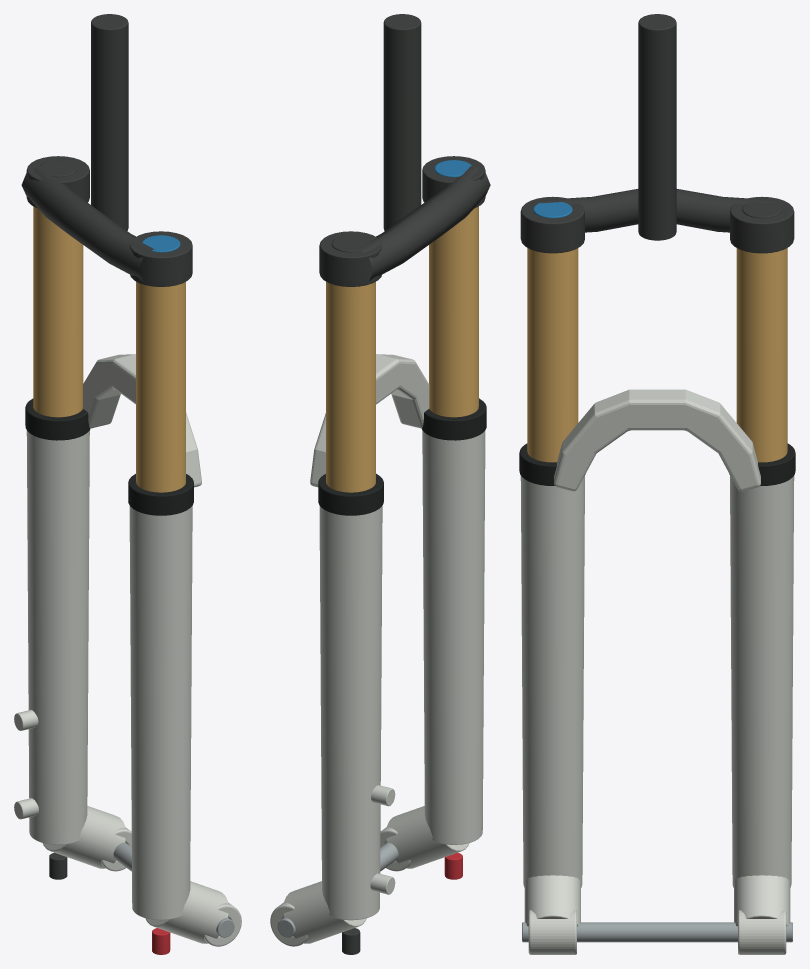
The model's file is fox-38-factory-my27--47e9709b.glb.
3 renders of one model, left to right at view 1: azimuth 30°, elevation 25°; view 2: azimuth 150°, elevation 25°; view 3: azimuth 270°, elevation 25°, orthographic.
Visible parts, largest first — view 1: fox-38-factory-my27--47e9709b__frame, fox-38-factory-my27--47e9709b__stanchions, fox-38-factory-my27--47e9709b__link, fox-38-factory-my27--47e9709b__protection, fox-38-factory-my27--47e9709b__bolts, fox-38-factory-my27--47e9709b__adjuster; view 2: fox-38-factory-my27--47e9709b__frame, fox-38-factory-my27--47e9709b__stanchions, fox-38-factory-my27--47e9709b__link, fox-38-factory-my27--47e9709b__protection, fox-38-factory-my27--47e9709b__bolts, fox-38-factory-my27--47e9709b__adjuster; view 3: fox-38-factory-my27--47e9709b__frame, fox-38-factory-my27--47e9709b__stanchions, fox-38-factory-my27--47e9709b__link, fox-38-factory-my27--47e9709b__bolts, fox-38-factory-my27--47e9709b__protection.
Part boxes in pixels (bbox=[...]): fox-38-factory-my27--47e9709b__frame: bbox=[14, 354, 241, 946]; fox-38-factory-my27--47e9709b__stanchions: bbox=[33, 206, 185, 492]; fox-38-factory-my27--47e9709b__link: bbox=[21, 14, 192, 879]; fox-38-factory-my27--47e9709b__protection: bbox=[25, 398, 193, 515]; fox-38-factory-my27--47e9709b__bolts: bbox=[113, 842, 234, 937]; fox-38-factory-my27--47e9709b__adjuster: bbox=[142, 235, 180, 252]; fox-38-factory-my27--47e9709b__frame: bbox=[270, 354, 485, 946]; fox-38-factory-my27--47e9709b__stanchions: bbox=[326, 206, 478, 492]; fox-38-factory-my27--47e9709b__link: bbox=[319, 14, 490, 954]; fox-38-factory-my27--47e9709b__protection: bbox=[318, 398, 486, 515]; fox-38-factory-my27--47e9709b__bolts: bbox=[277, 842, 398, 937]; fox-38-factory-my27--47e9709b__adjuster: bbox=[434, 160, 471, 177]; fox-38-factory-my27--47e9709b__frame: bbox=[520, 389, 794, 954]; fox-38-factory-my27--47e9709b__stanchions: bbox=[527, 248, 787, 462]; fox-38-factory-my27--47e9709b__link: bbox=[520, 14, 794, 253]; fox-38-factory-my27--47e9709b__bolts: bbox=[522, 922, 792, 942]; fox-38-factory-my27--47e9709b__protection: bbox=[519, 443, 795, 485].
Size of the model in its own units: 0.1 by 0.747 by 0.206.
